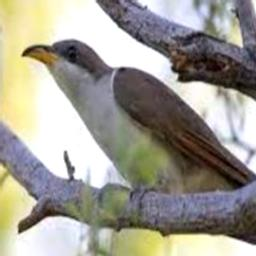Cuckoo: (22, 37, 256, 194)
